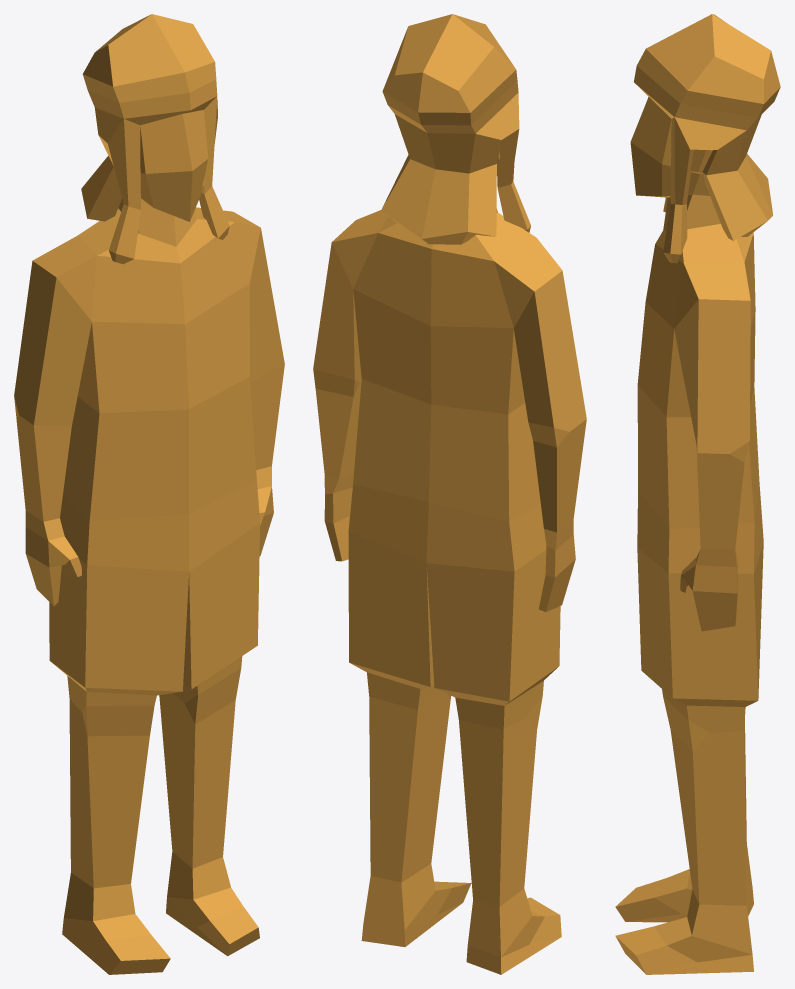
File: man-jamaica.fbx
The picture shows the model from 3 angles, left to right: view 1: azimuth 30°, elevation 25°; view 2: azimuth 150°, elevation 25°; view 3: azimuth 270°, elevation 25°; orthographic projection.
Parts seen in each view (by area): view 1: man-jamaica; view 2: man-jamaica; view 3: man-jamaica.
Part boxes in pixels (x1=…): man-jamaica: x1=14, y1=14, x2=284, y2=974; man-jamaica: x1=313, y1=14, x2=586, y2=974; man-jamaica: x1=615, y1=14, x2=780, y2=974.
Bounding box in the file's own units: 0.5526 × 1.93 × 0.3136.
